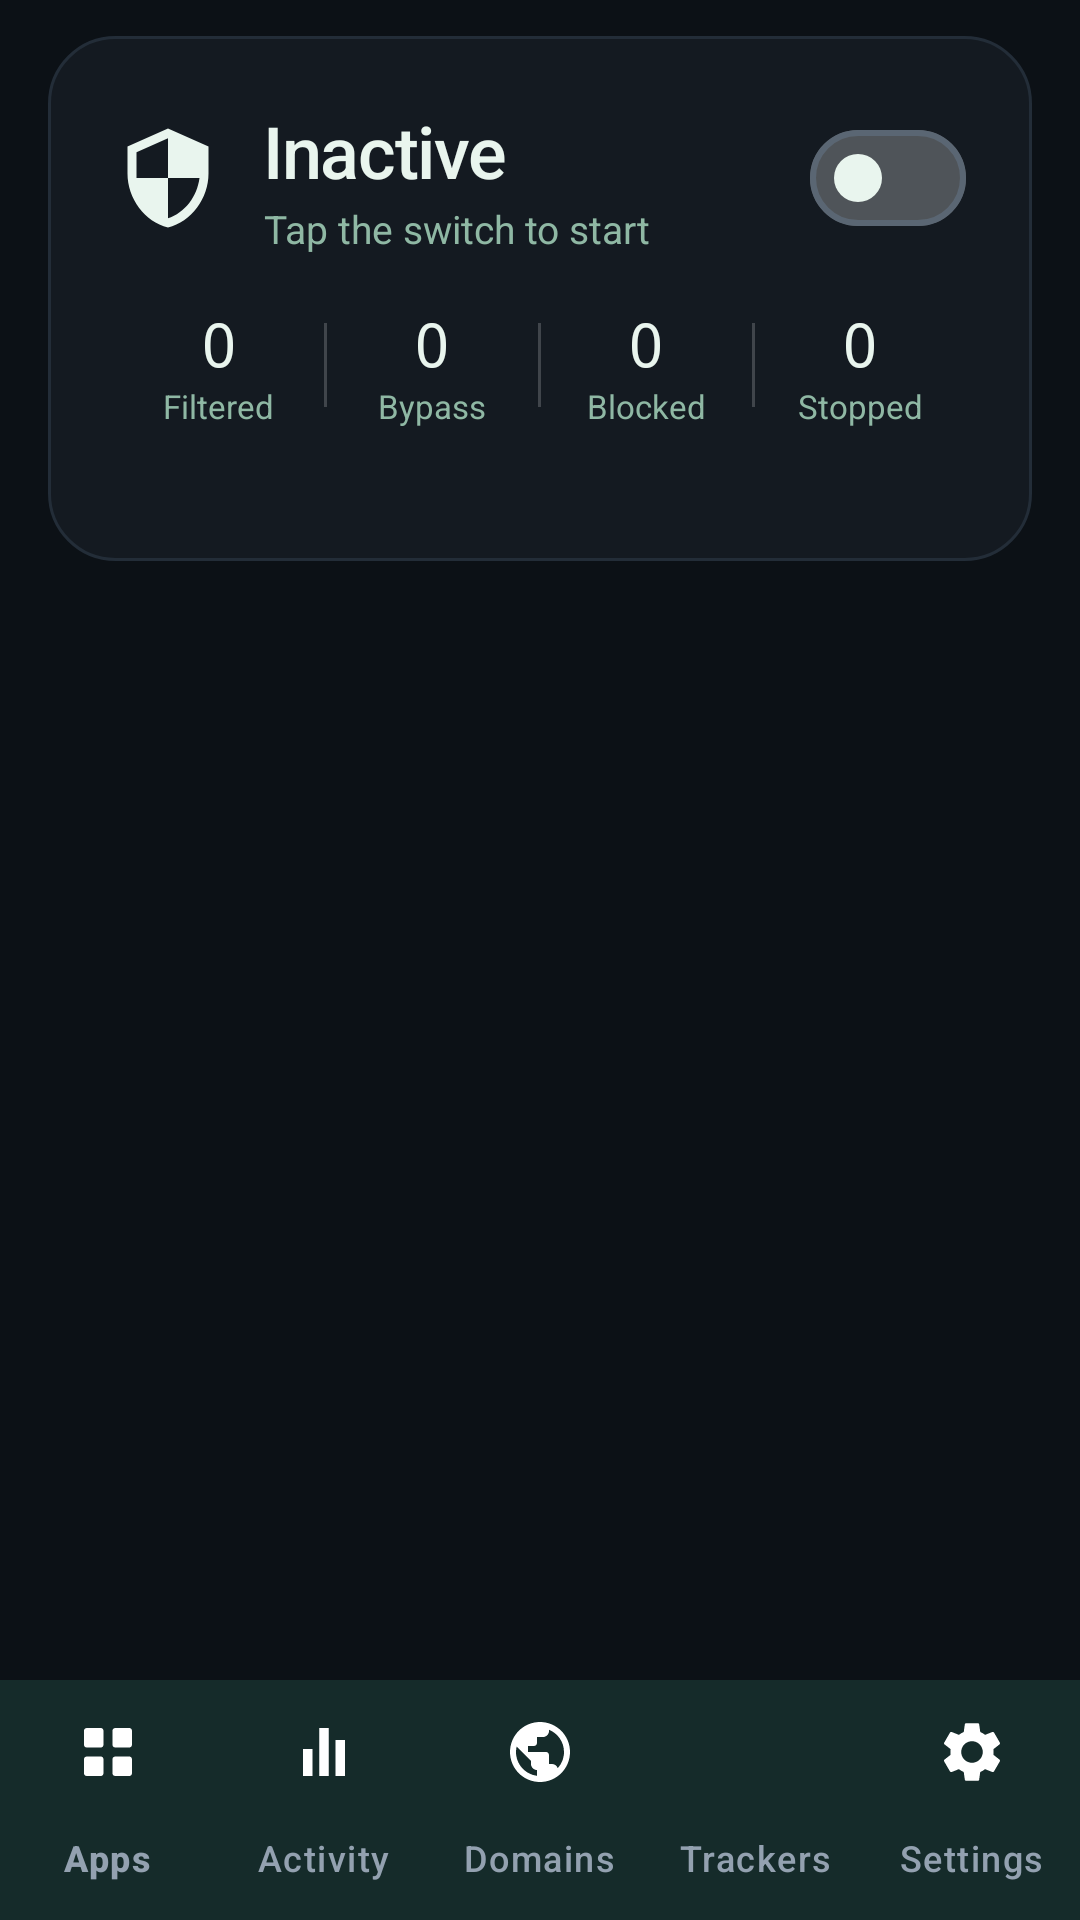

Icon click points for this 1080x1920 phone screenshot, format (x,y):
Firewall shield: (168,178)
